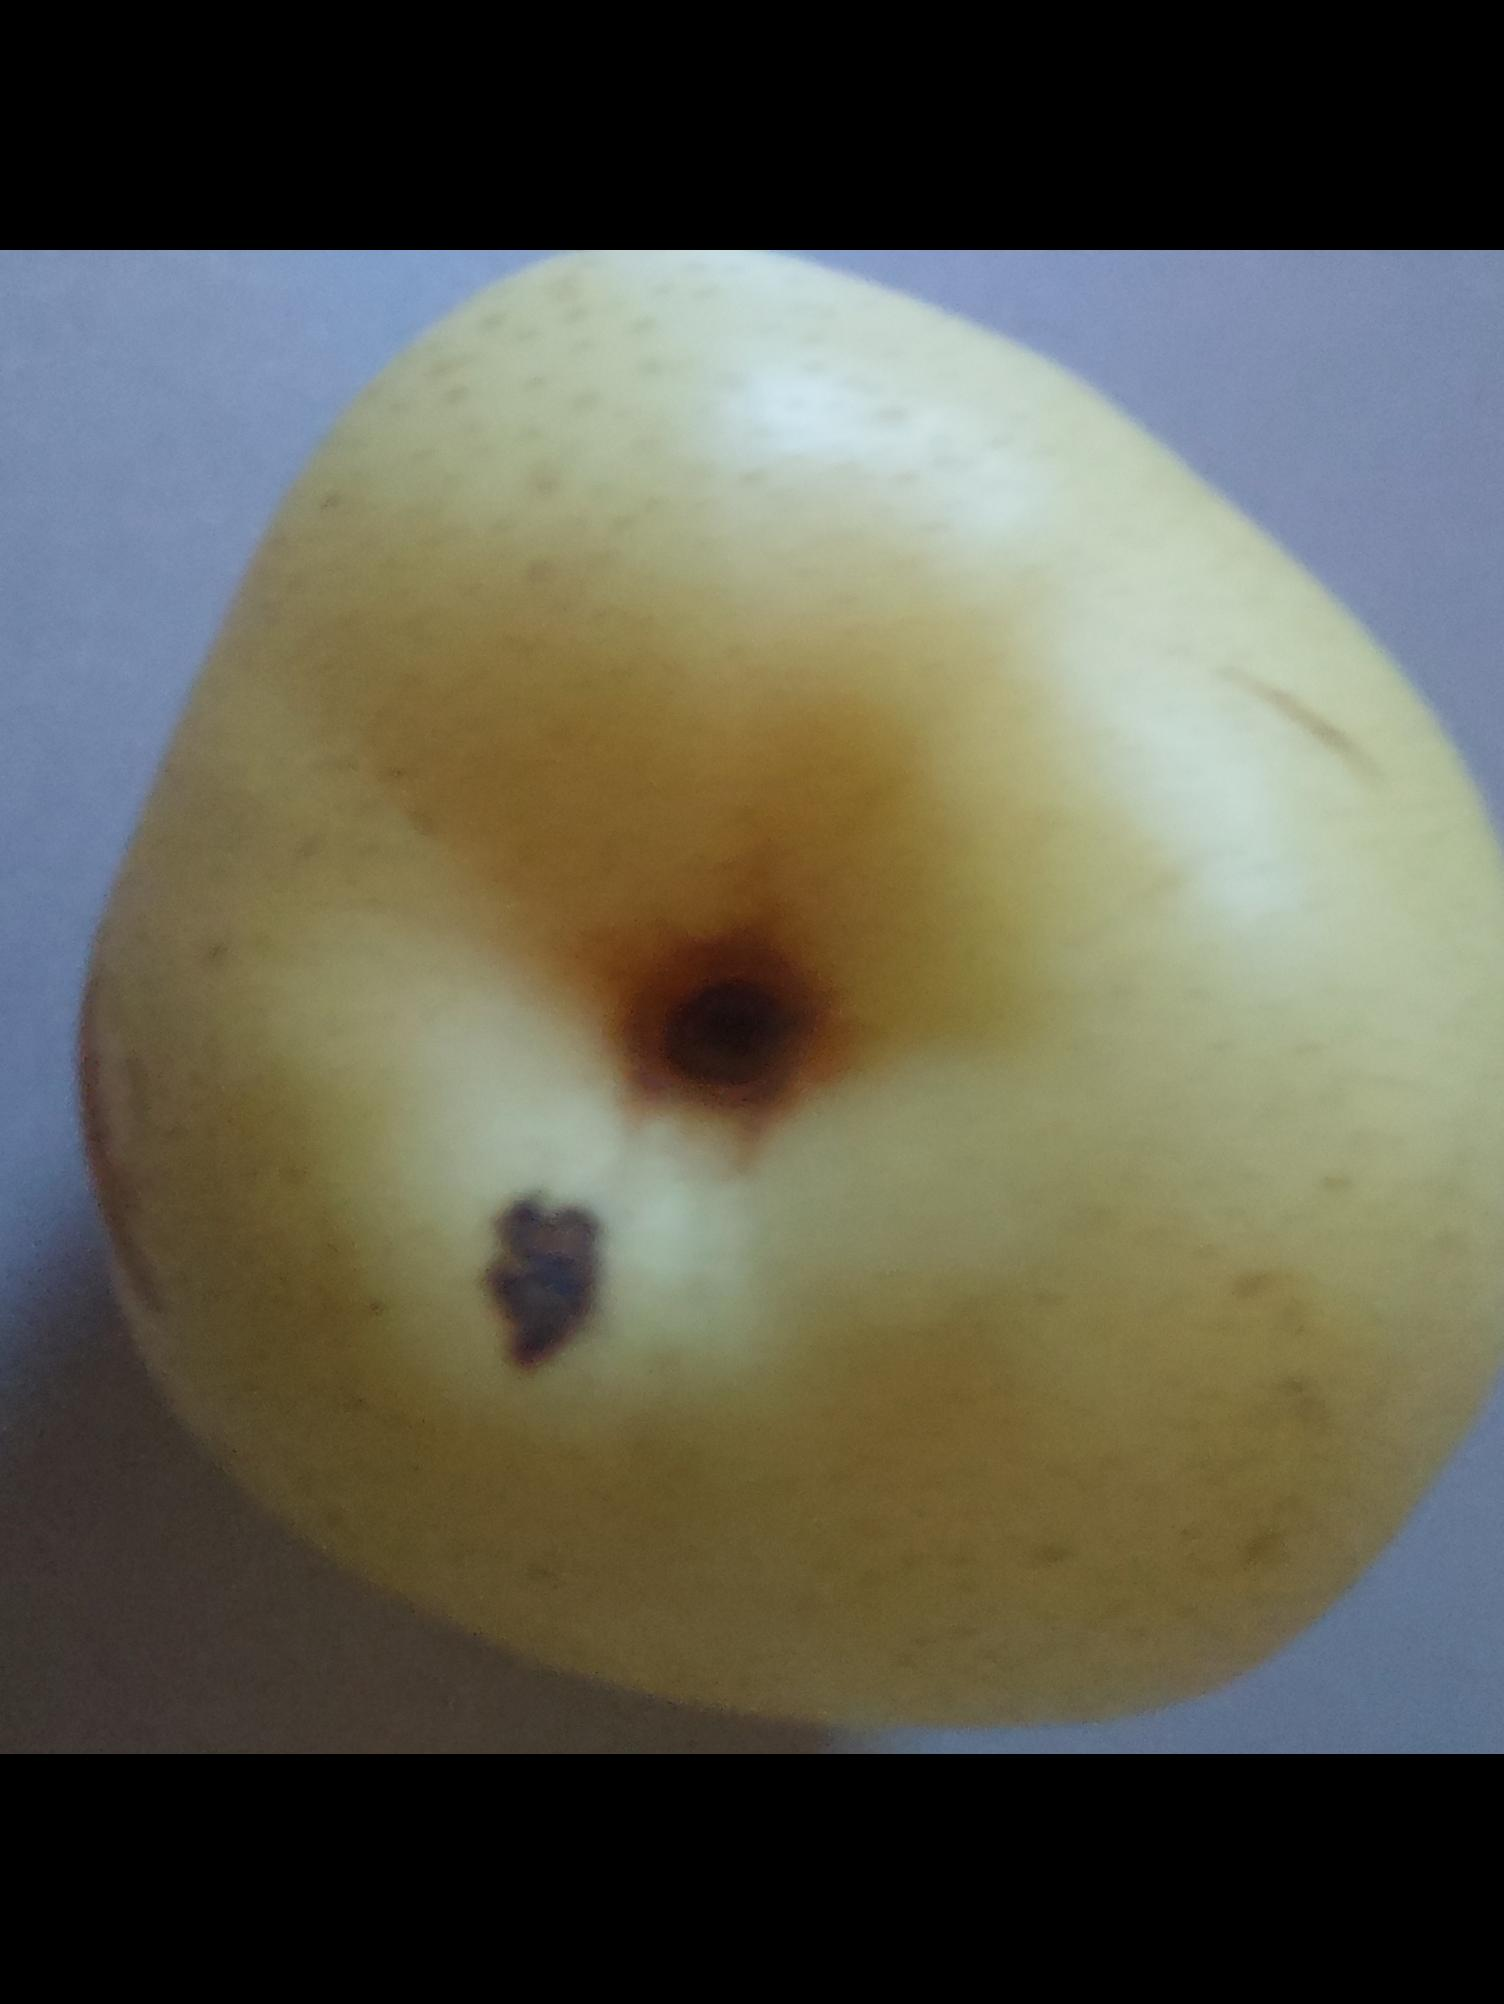Good Pear: (17, 250, 1504, 1754)
